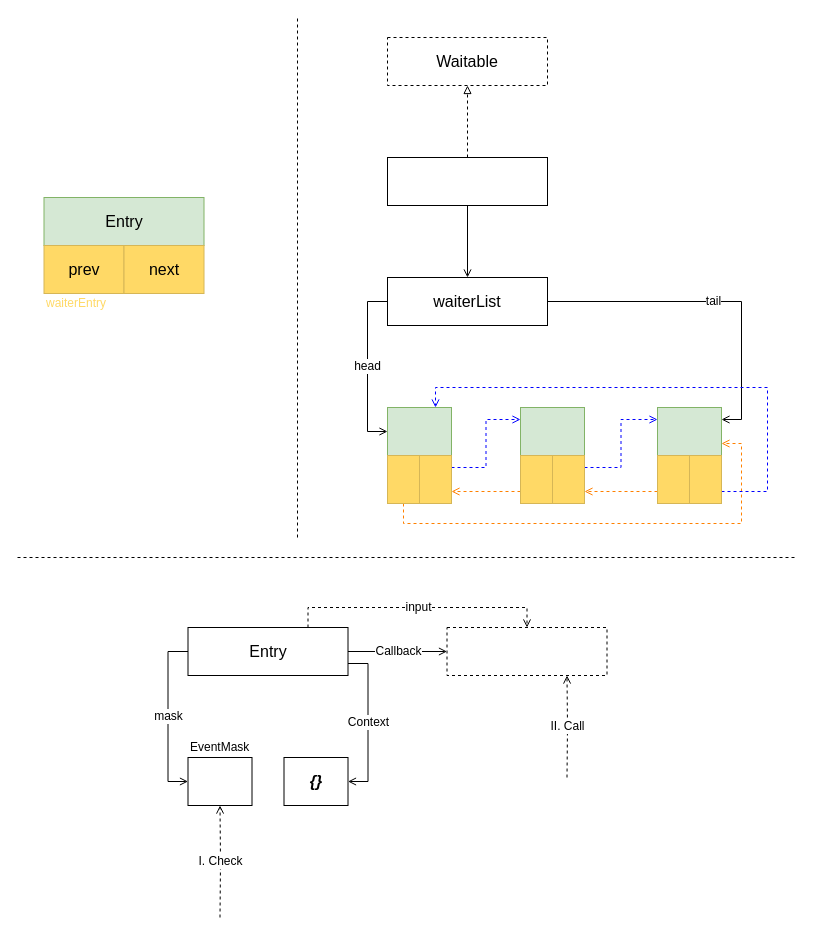
Image size: 816x943. Some labels were removed from this diagram. The centre of each missing label's shape, as x and y in pixels:
"EntryCallback" belongs at point (526, 651).
"Queue" belongs at point (467, 181).
"uint16" belongs at point (219, 781).
